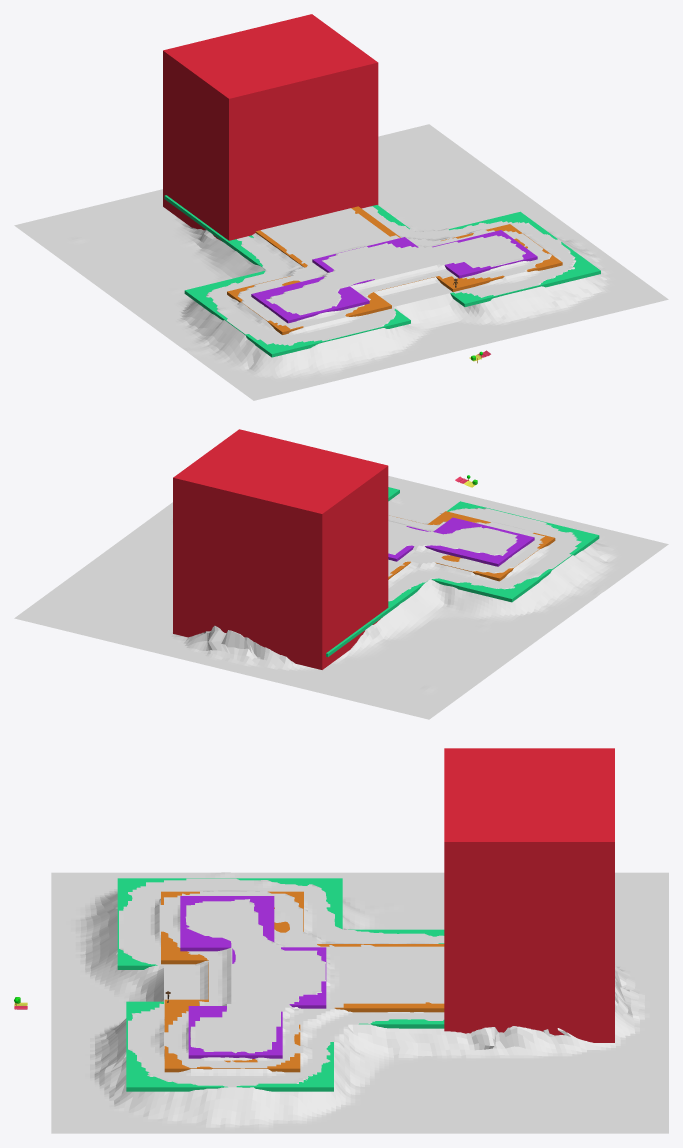
File: LowPolyIsland3good.gltf
3 renders of one model, top to bottom at view 1: azimuth 30°, elevation 25°; view 2: azimuth 150°, elevation 25°; view 3: azimuth 270°, elevation 25°, orthographic. The views are drawn at different scales.
Visible parts, largest first — view 1: Plane, Volcano, Level1.002, Level1, Level3.002, Level2, Level2.001, Level3, Level1.001, Level2.002; view 2: Plane, Volcano, Level1.002, Level3.002, Level2.001, Level1.001; view 3: Plane, Volcano, Level1, Level1.002, Level3.002, Level2, Level3, Level2.001, Level2.002, Level1.001, Level3.001.
Boxes of the visible parts, x1=… form: Plane: x1=14, y1=124, x2=668, y2=400; Volcano: x1=163, y1=14, x2=378, y2=241; Level1.002: x1=184, y1=270, x2=410, y2=357; Level1: x1=449, y1=211, x2=600, y2=306; Level3.002: x1=251, y1=276, x2=369, y2=323; Level2: x1=436, y1=224, x2=562, y2=291; Level2.001: x1=227, y1=276, x2=391, y2=334; Level3: x1=432, y1=230, x2=537, y2=278; Level1.001: x1=164, y1=195, x2=409, y2=268; Level2.002: x1=255, y1=206, x2=435, y2=290; Plane: x1=14, y1=476, x2=668, y2=719; Volcano: x1=173, y1=429, x2=388, y2=669; Level1.002: x1=431, y1=501, x2=599, y2=602; Level3.002: x1=425, y1=517, x2=534, y2=566; Level2.001: x1=427, y1=511, x2=555, y2=581; Level1.001: x1=326, y1=581, x2=427, y2=656; Plane: x1=51, y1=872, x2=668, y2=1133; Volcano: x1=444, y1=748, x2=614, y2=1042; Level1: x1=126, y1=1001, x2=333, y2=1091; Level1.002: x1=117, y1=878, x2=342, y2=969; Level3.002: x1=180, y1=896, x2=274, y2=951; Level2: x1=164, y1=999, x2=300, y2=1072; Level3: x1=188, y1=1006, x2=282, y2=1058; Level2.001: x1=161, y1=891, x2=303, y2=964; Level2.002: x1=208, y1=944, x2=444, y2=1012; Level1.001: x1=348, y1=929, x2=444, y2=1028; Level3.001: x1=232, y1=947, x2=326, y2=1008.
Bounding box in the file's own units: 259 × 96.92 × 274.
17 materials, 1 textured.
